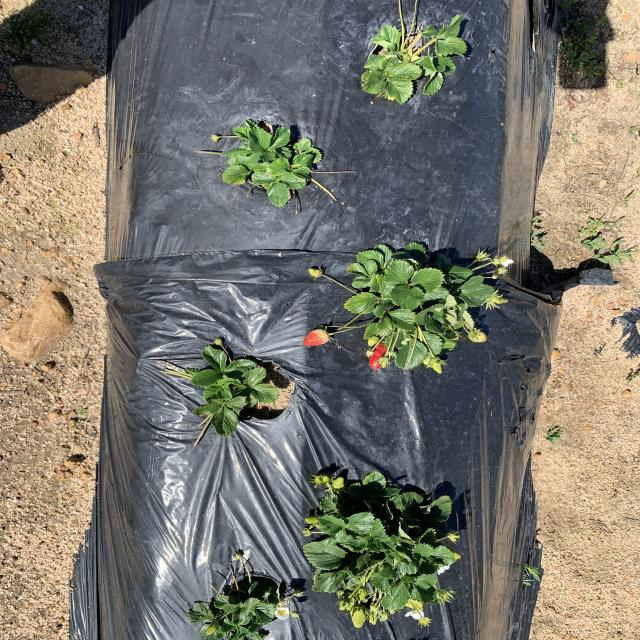unripe: (367, 342, 395, 371), (303, 329, 326, 346)
